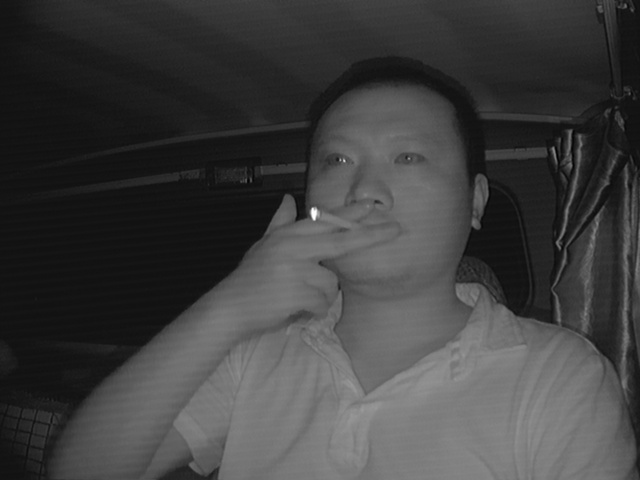hand: (291, 200, 400, 313)
